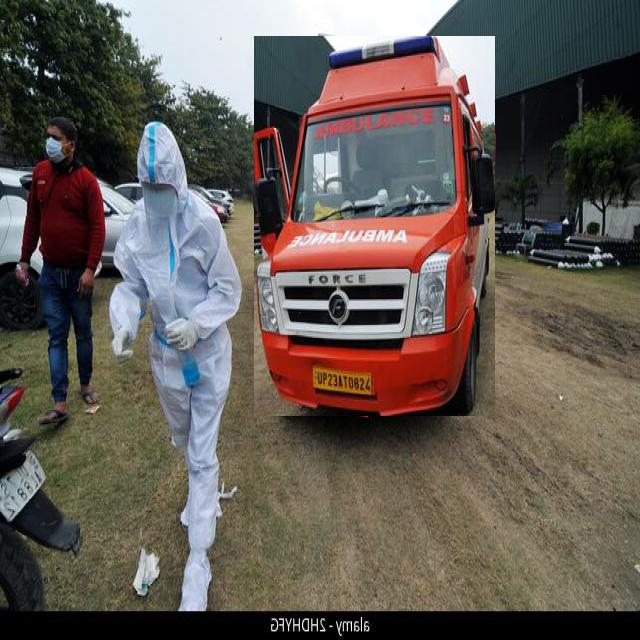emergency: (254, 36, 495, 416)
